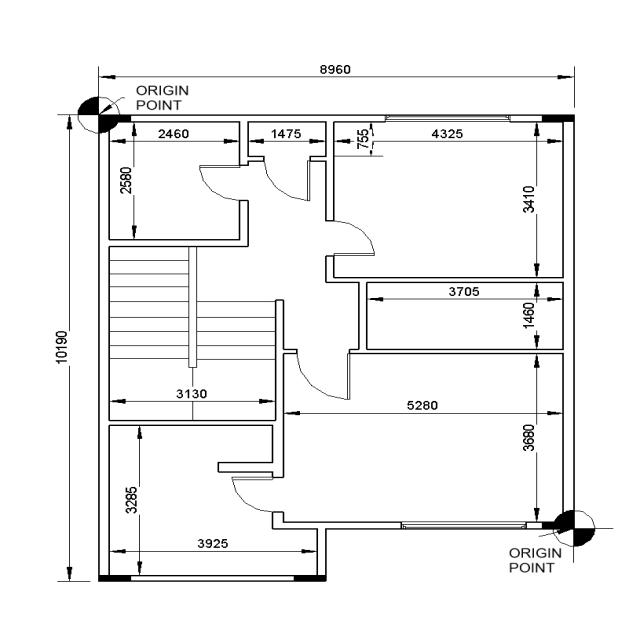Column: (98, 114, 131, 122), (542, 522, 575, 529), (98, 575, 131, 582), (542, 115, 574, 122), (294, 575, 326, 582)
Door: (297, 349, 349, 400), (264, 156, 310, 201), (232, 477, 283, 512), (200, 165, 248, 201), (326, 220, 374, 256)
Staircase: (109, 247, 276, 420)
Window: (385, 115, 510, 122), (401, 522, 526, 529)
